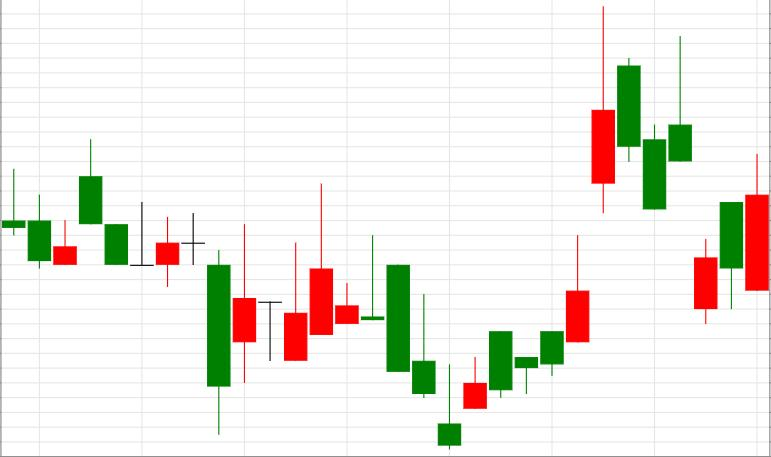inverse_hammer_rise: (310, 183, 461, 449)
